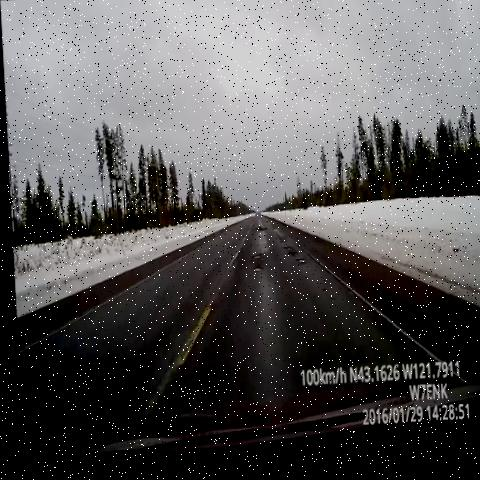pothole: (277, 244, 297, 267), (244, 247, 262, 268), (248, 260, 263, 283), (248, 225, 267, 241), (292, 257, 305, 274)
